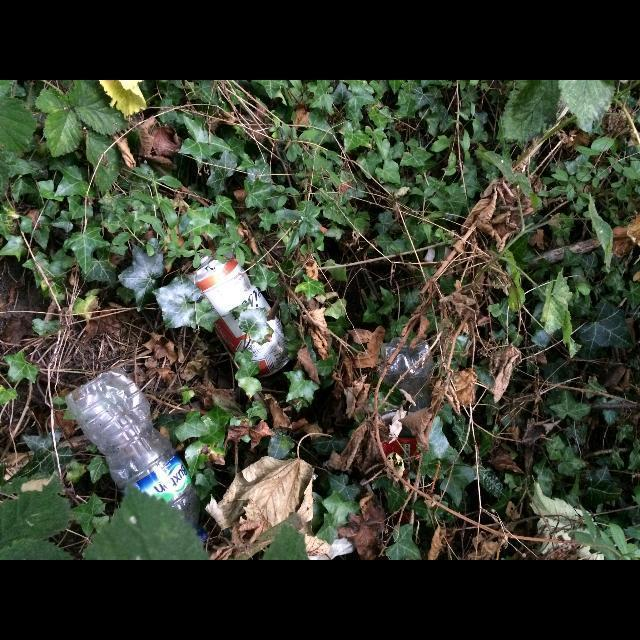Plastic: (66, 368, 206, 542), (198, 530, 208, 542)
